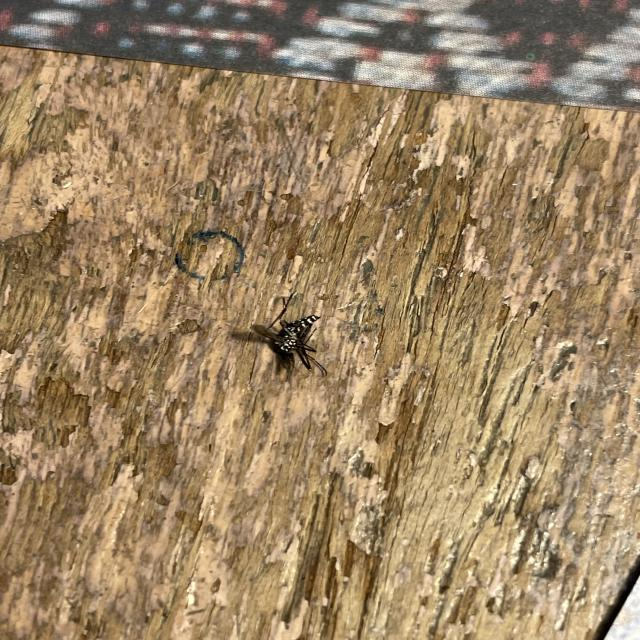albopictus: (235, 288, 335, 377)
